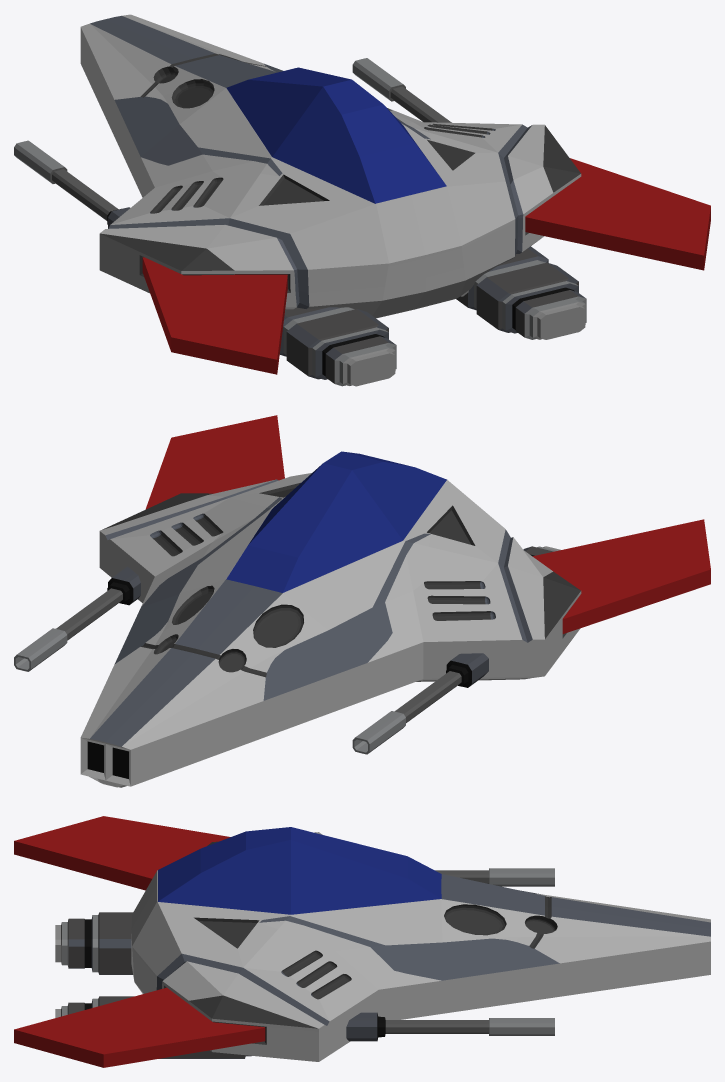
Rendered from spaceship.glb.
3 renders of one model, top to bottom at view 1: azimuth 30°, elevation 25°; view 2: azimuth 150°, elevation 25°; view 3: azimuth 270°, elevation 25°, orthographic. The views are drawn at different scales.
Parts seen in each view (by area): view 1: Ship base, Wings, Cabin, Engine, Weapon; view 2: Ship base, Wings, Cabin, Weapon; view 3: Ship base, Wings, Cabin, Weapon, Engine.
Boxes of the visible parts, x1,y1,x2,y2 form: Ship base: (80,14,581,318); Wings: (142,158,710,374); Cabin: (226,67,446,203); Engine: (279,246,586,386); Weapon: (14,58,451,228); Ship base: (80,473,581,787); Wings: (145,415,710,633); Cabin: (226,451,446,592); Weapon: (14,566,488,754); Ship base: (131,832,710,1061); Wings: (14,816,265,1067); Cabin: (158,827,441,914); Weapon: (346,868,554,1041); Engine: (55,912,251,1058).
Size of the model in its own units: 2.7 by 0.8999 by 3.34.
